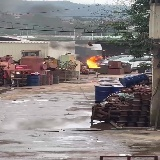fire: (86, 55, 102, 68)
